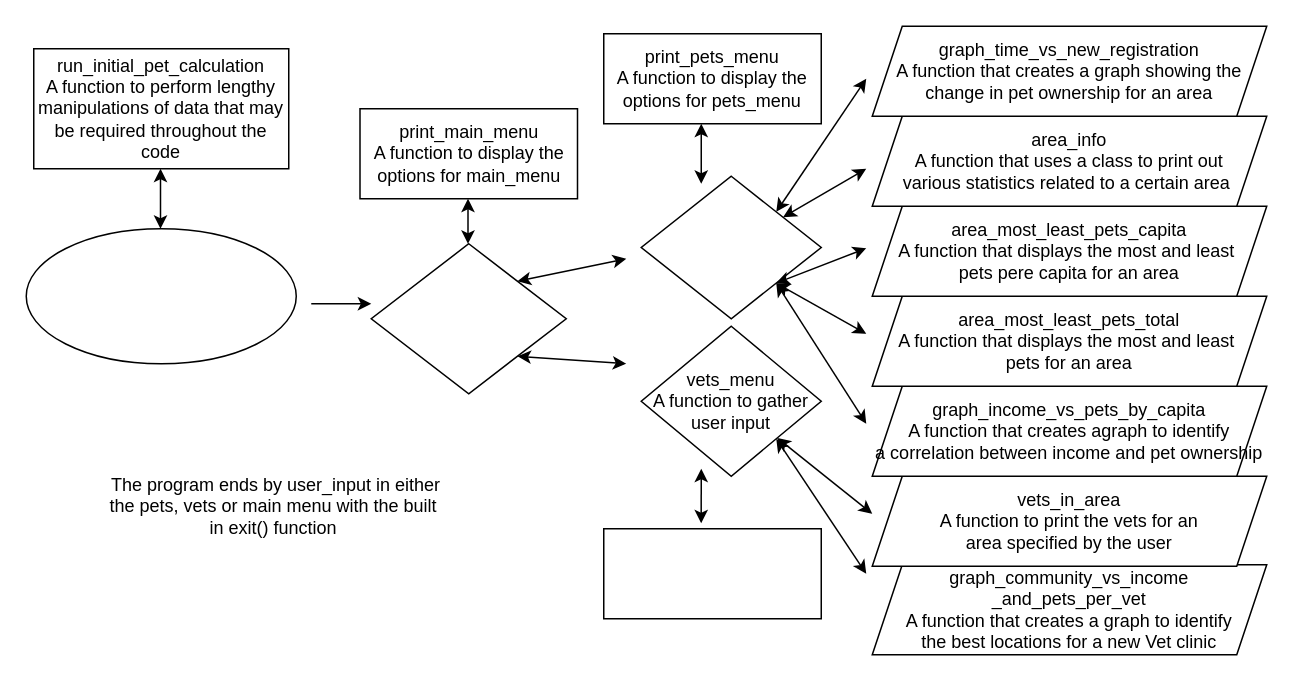
Some shapes in this 1293 by 681 pixel diagram are drawn without their labels. The shapes that lost their labels are listed below. From the top down, each one's centre as x and y in pixels, then its label:
At pixel 730 247: "pets_menu A function to gather user input".
At pixel 160 295: "main A function to import data then control processing the data and main menu".
At pixel 468 318: "main_menu A function to gather user input".
At pixel 711 573: "print_vets_menu A function to display the options for vets_menu".
